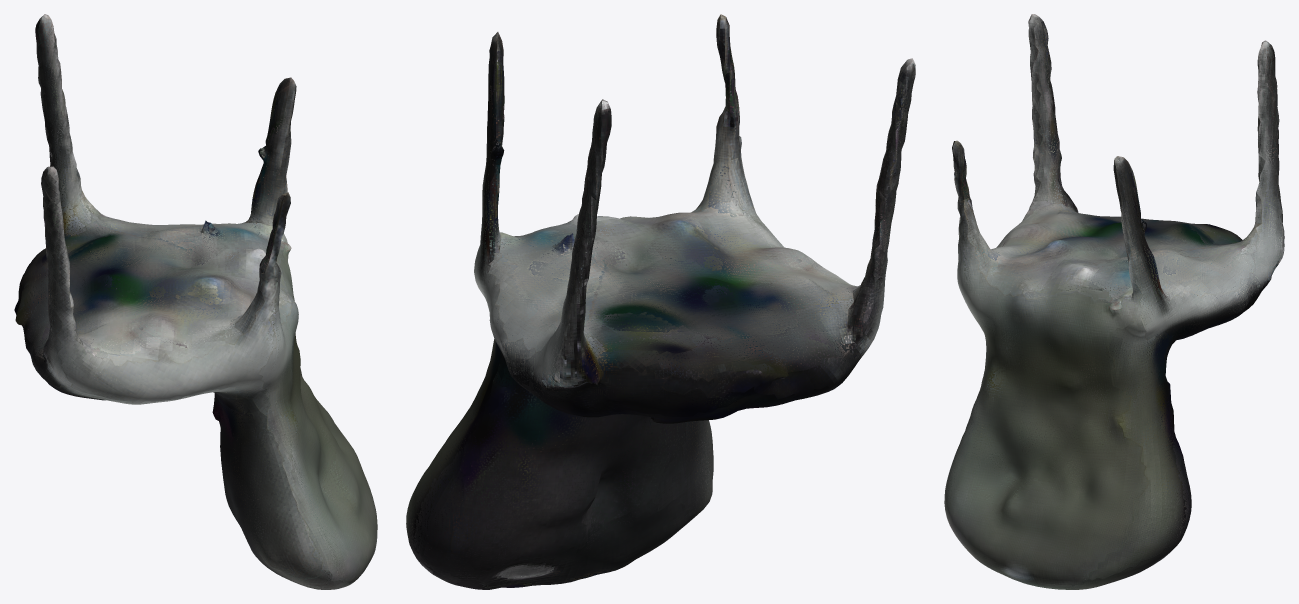
The model's file is 4_chair.glb.
The picture shows the model from 3 angles, left to right: view 1: azimuth 30°, elevation 25°; view 2: azimuth 150°, elevation 25°; view 3: azimuth 270°, elevation 25°; orthographic projection. The views are drawn at different scales.
Parts seen in each view (by area): view 1: 4_chair.obj; view 2: 4_chair.obj; view 3: 4_chair.obj.
Part boxes in pixels (left/top/right/bottom): 4_chair.obj: left=14, top=14, right=377, bottom=589; 4_chair.obj: left=406, top=14, right=915, bottom=589; 4_chair.obj: left=944, top=14, right=1284, bottom=589.
Bounding box in the file's own units: 0.809 × 1.11 × 0.7354.
Materials: 1 (1 with a texture image).
